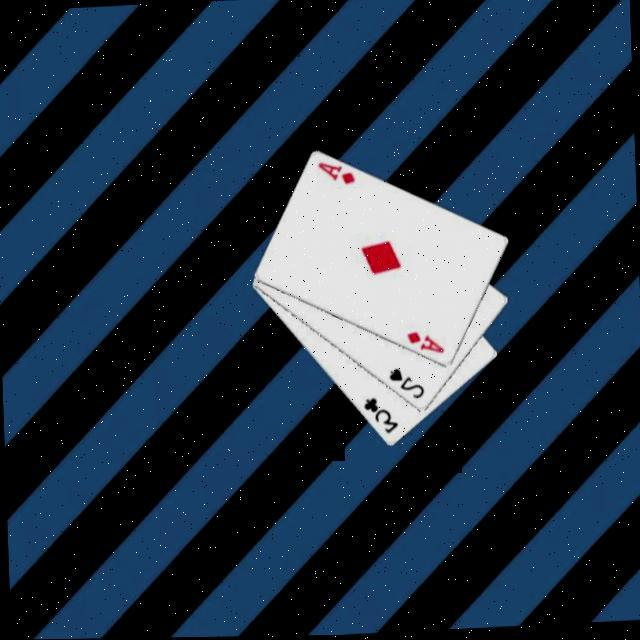2S: (388, 363, 428, 402)
3C: (362, 394, 402, 438)
AD: (405, 327, 449, 358), (316, 158, 359, 189)
